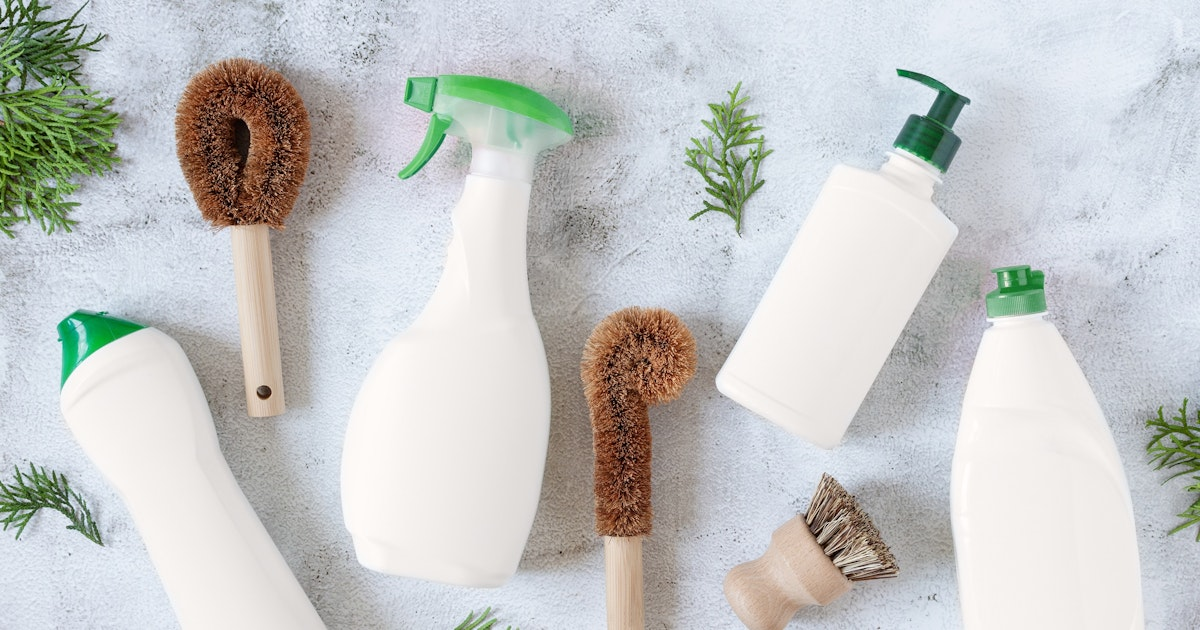cleaner: (332, 72, 579, 590), (41, 308, 329, 630), (941, 263, 1148, 630)
